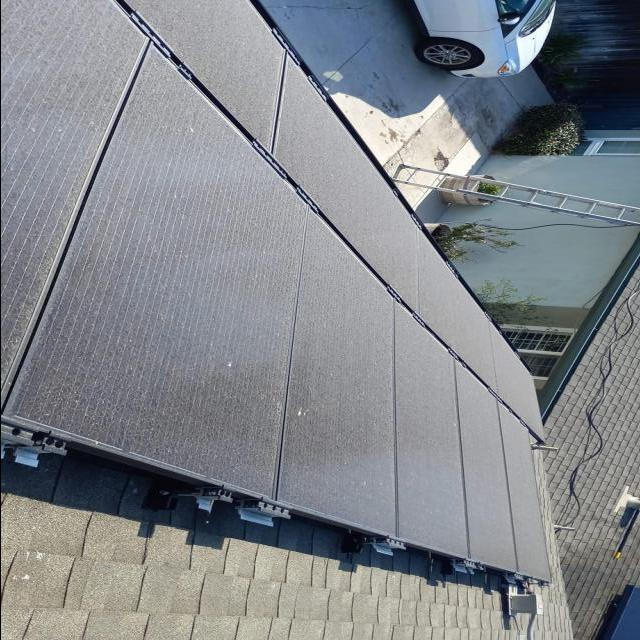soiled: (0, 0, 560, 578)
